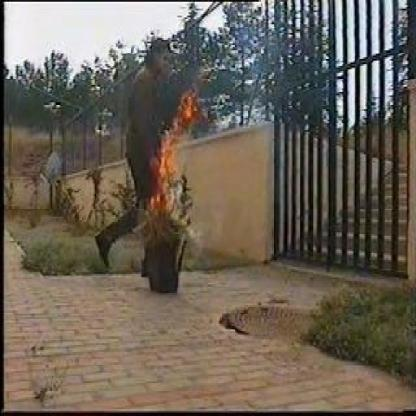foggia-v2-map80-epoch100 - v1 4323: (148, 102, 196, 207)
